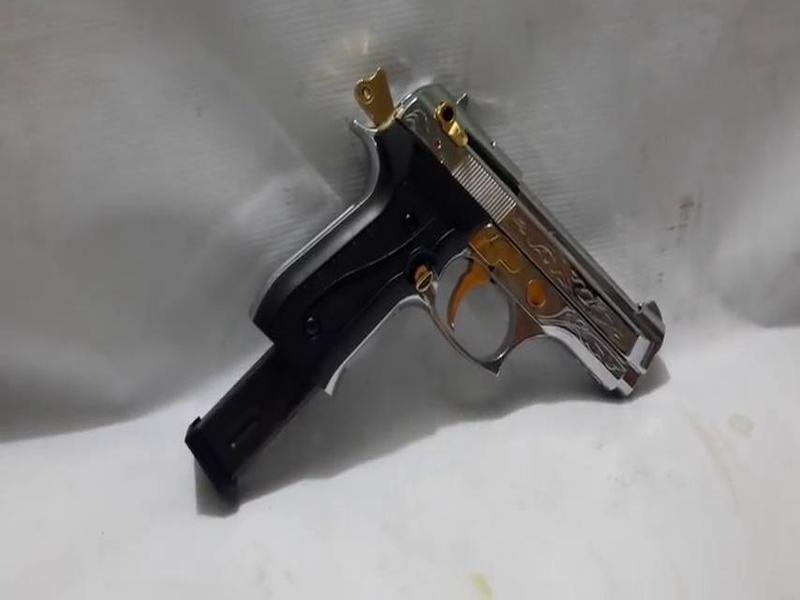Pistola: (274, 59, 694, 414)
